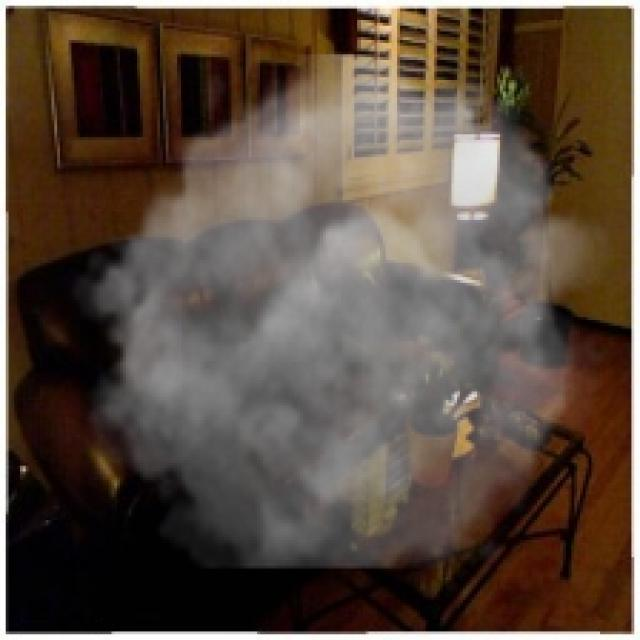Smoke: (68, 54, 614, 569)
